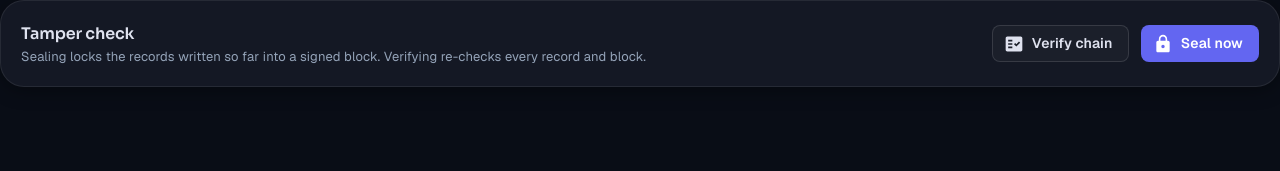
it: remaining Task 3 screens › shows a useful error when audit verification fails
The width and height of the screenshot is (1280, 171).
Click the button "Verify chain": (1060, 44) [992,25,1129,62]
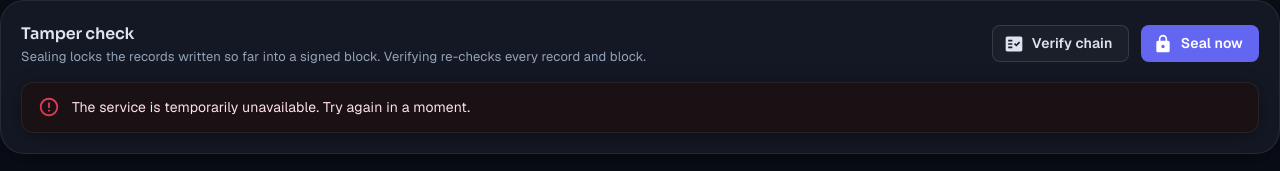
Check: the text "The service is temporarily unavailable. Try again in a moment." is shown, box [72,98,470,116]
